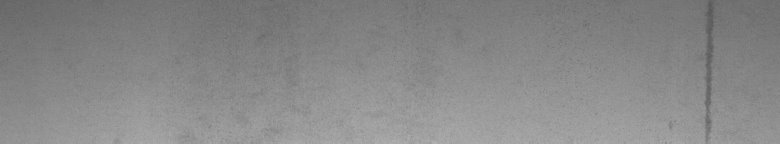hd: (669, 4, 716, 136)
